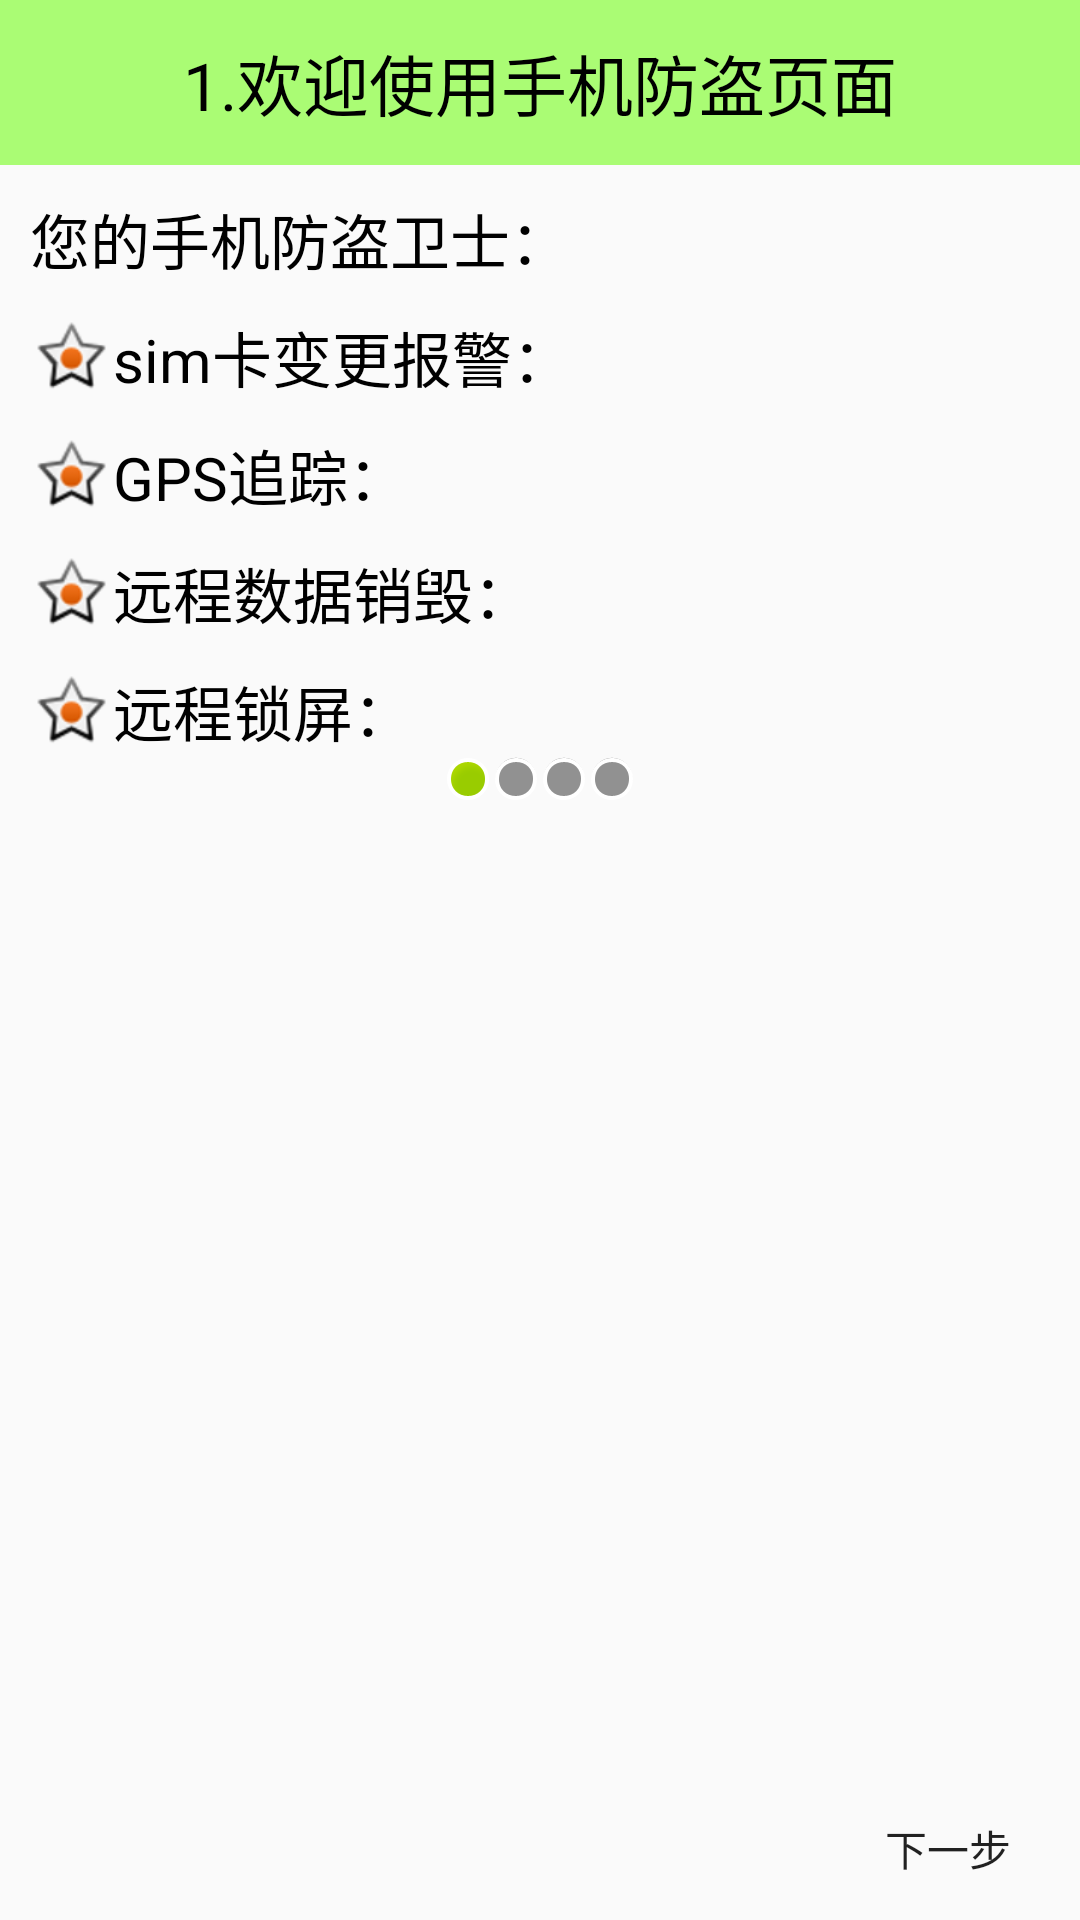

Where to tap for icons on this 1080px×1920px app screen, as (x,y):
presence invisible: (516,777), (564,777), (612,777)
presence online: (468,779)
